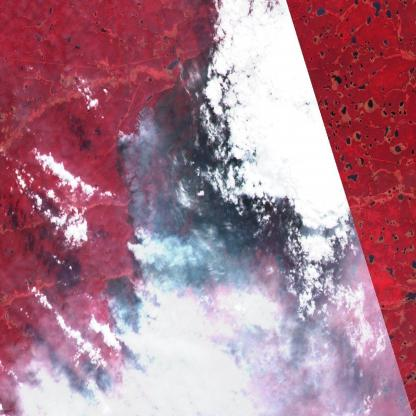fire: (108, 103, 154, 149), (128, 222, 147, 255)
